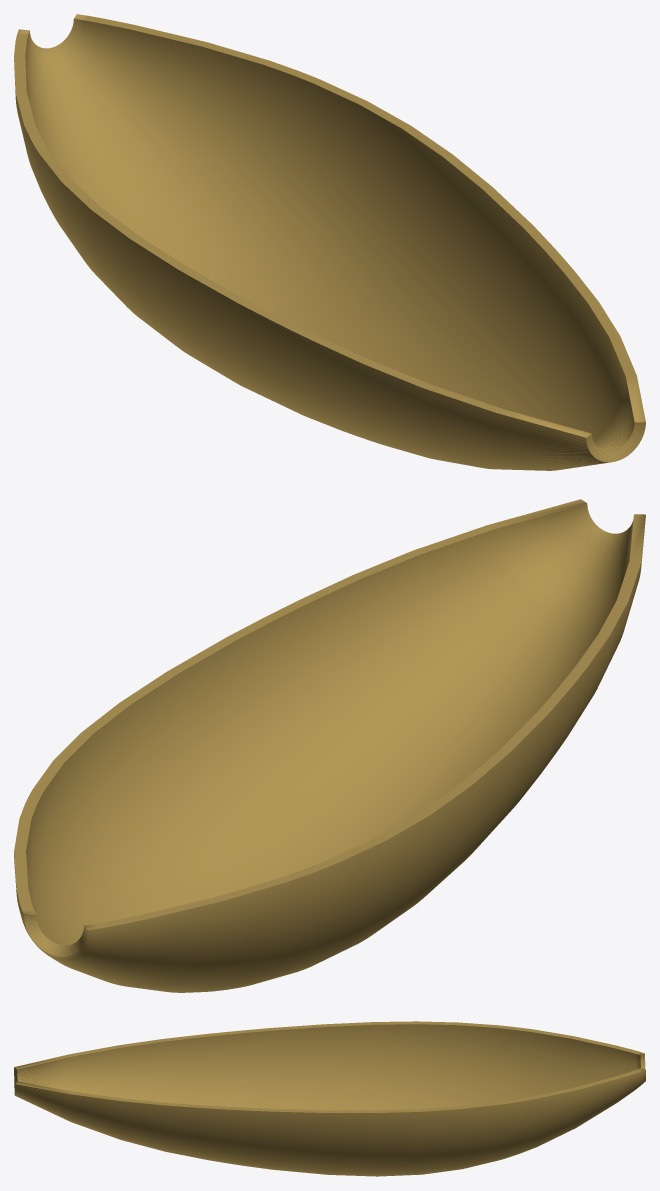
The model's file is Boat without sail.fbx.
The picture shows the model from 3 angles, top to bottom: view 1: azimuth 30°, elevation 25°; view 2: azimuth 150°, elevation 25°; view 3: azimuth 270°, elevation 25°; orthographic projection. The views are drawn at different scales.
Parts seen in each view (by area): view 1: boat_without_sail; view 2: boat_without_sail; view 3: boat_without_sail.
Part boxes in pixels (x1,y1,x2,y2): boat_without_sail: (14, 14, 645, 470); boat_without_sail: (14, 499, 645, 992); boat_without_sail: (14, 1021, 645, 1176).
Size of the model in its own units: 20.04 by 10.36 by 58.07.
